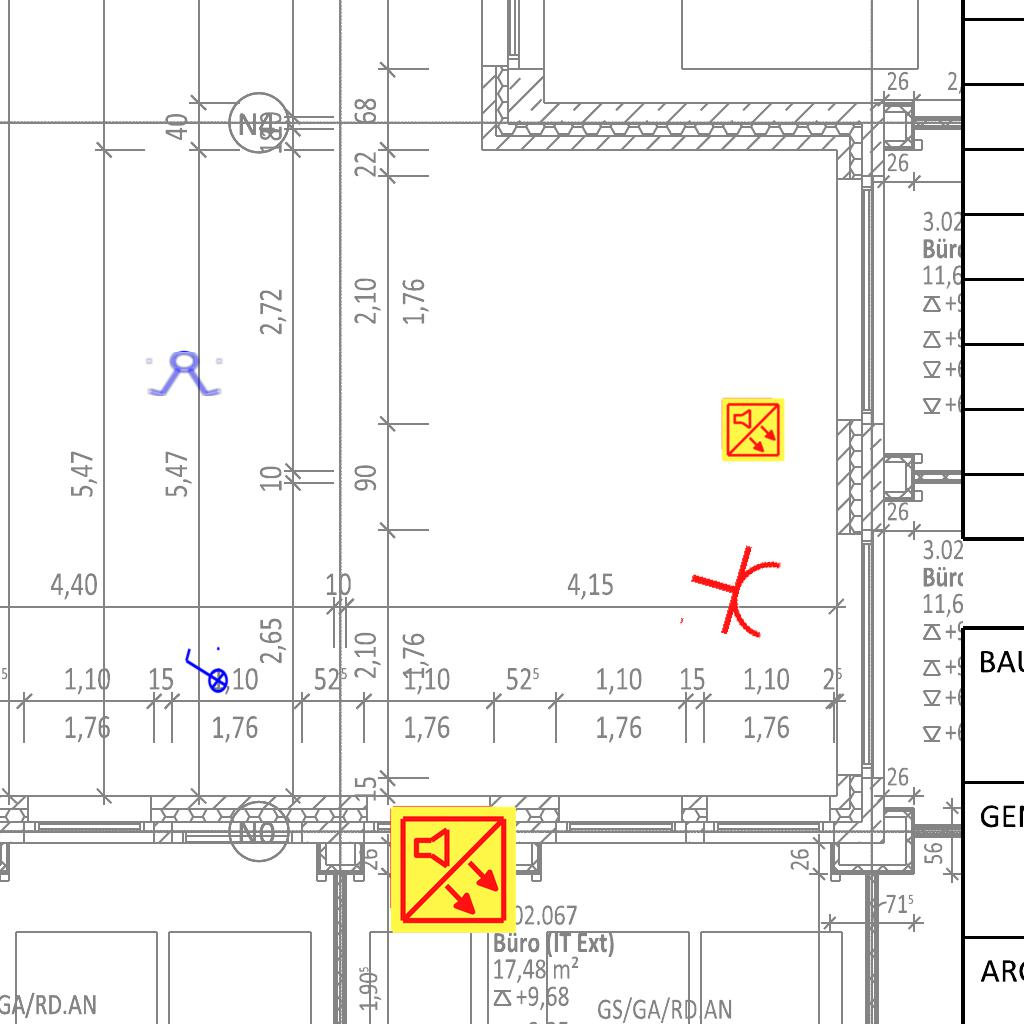Ausschalter_beleuchtet: (181, 644, 229, 700)
OKW_Multisensormelder_(Kombination_optischer_Rauch-Kahlenmonoxid_Waerme-Melder): (387, 804, 519, 936), (720, 397, 786, 463)
Schukosteckdose_einfach: (675, 530, 788, 652)
Serienschalter: (143, 350, 227, 398)
